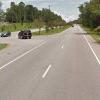Tree: (75, 2, 100, 39)
